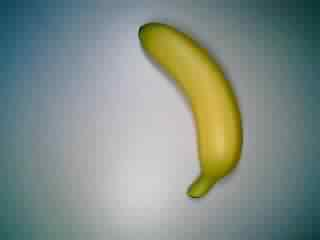banana: (135, 19, 247, 203)
